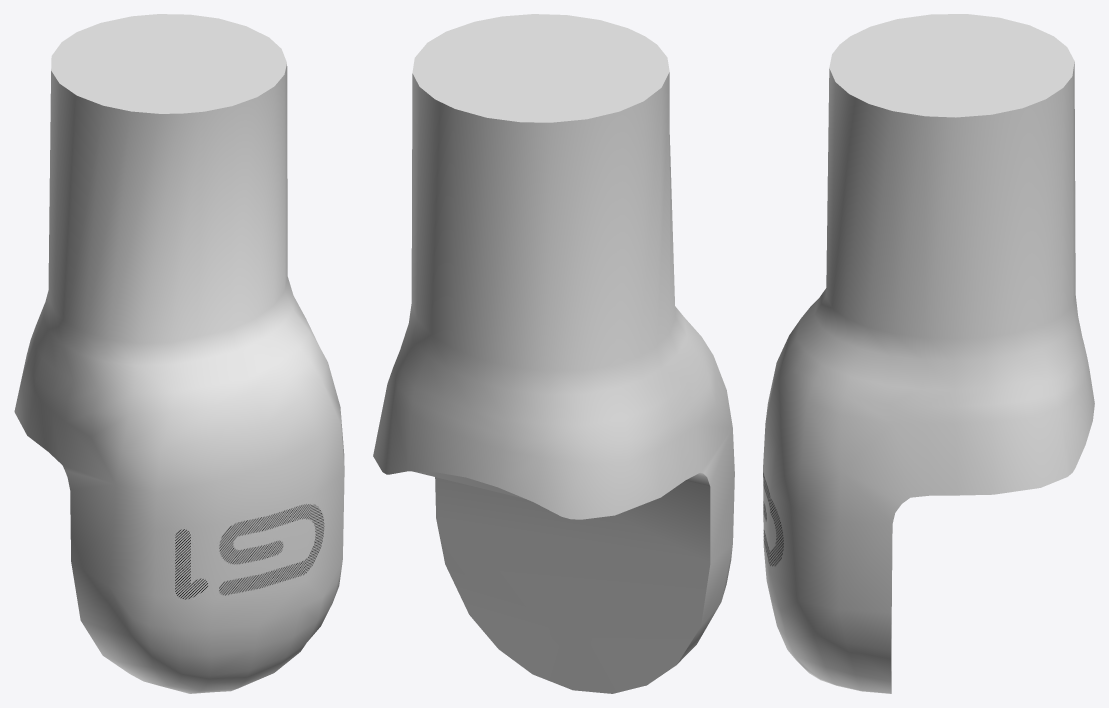
The model's file is link2_left.glb.
The picture shows the model from 3 angles, left to right: view 1: azimuth 30°, elevation 25°; view 2: azimuth 150°, elevation 25°; view 3: azimuth 270°, elevation 25°; orthographic projection. The views are drawn at different scales.
Parts seen in each view (by area): view 1: geo1; view 2: geo1; view 3: geo1.
Part boxes in pixels (<box>): geo1: <box>14,14,344,693</box>; geo1: <box>373,14,734,693</box>; geo1: <box>763,14,1094,693</box>.
Size of the model in its own units: 0.1087 by 0.2423 by 0.1183.
1 material, 1 textured.
